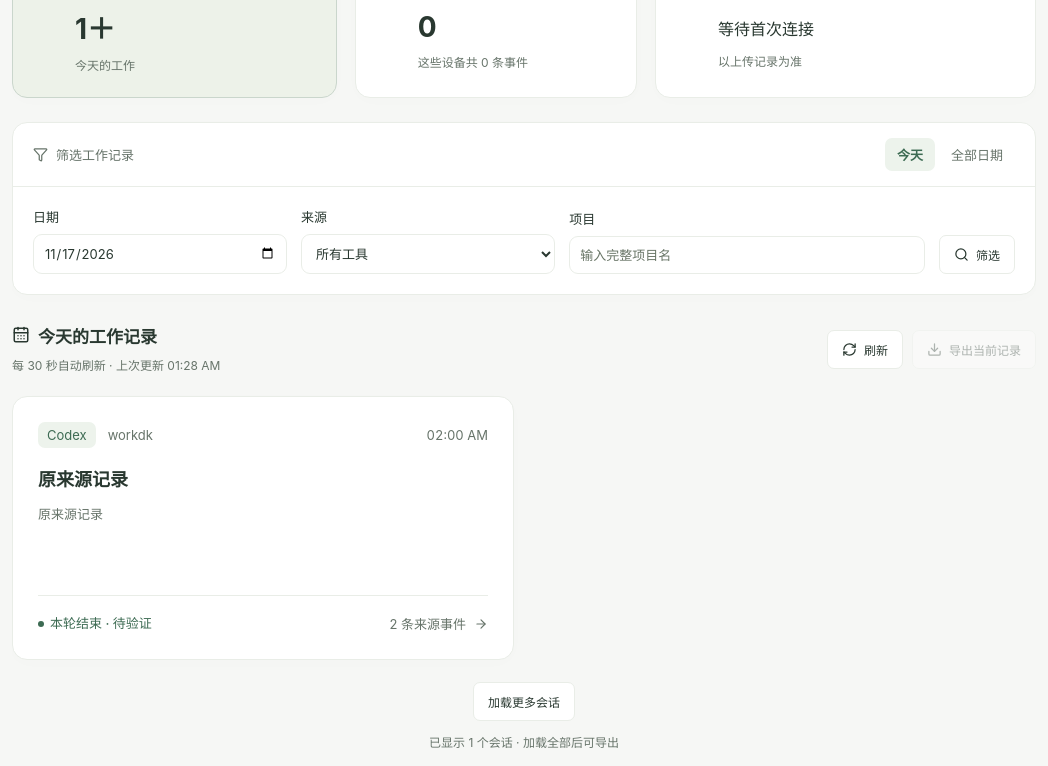
Test: 切换来源后忽略仍在返回的旧分页，不把旧记录混入新列表
The image size is (1048, 766).
(page scrolled)
Step 1. Click the button "加载更多会话" → [524, 702], box [473,682,575,721]
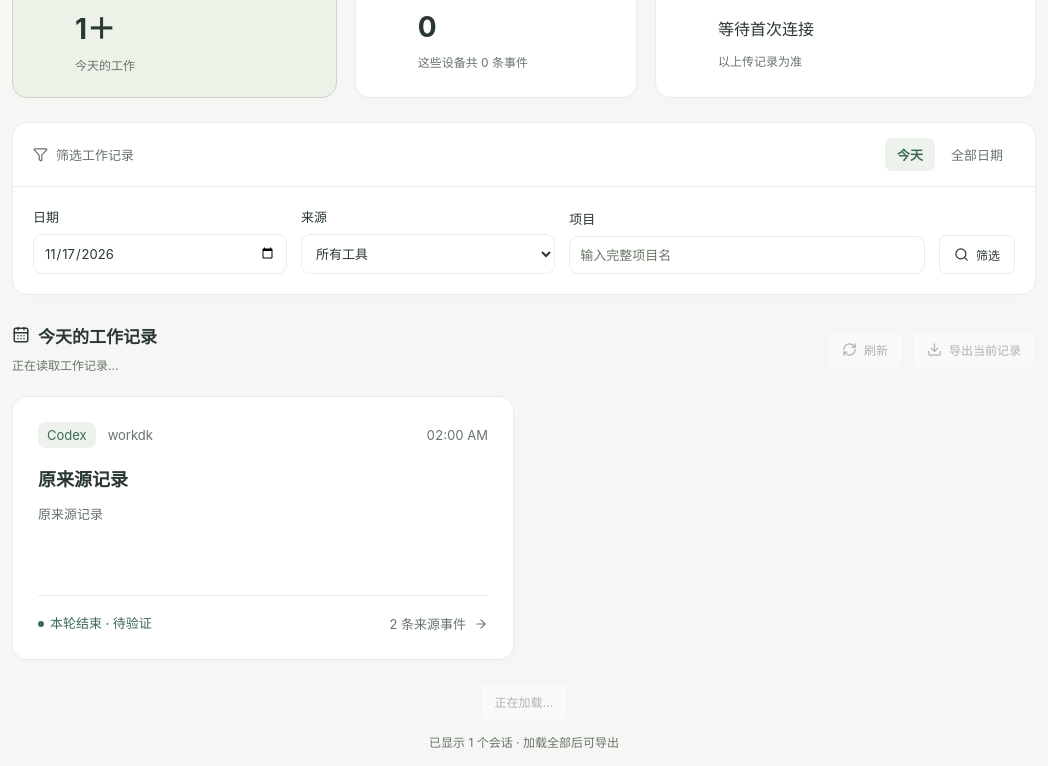
Step 2. Select "Claude Code" in the dropdown labelled "来源" → [428, 254], box [301,234,555,274]
(page scrolled)
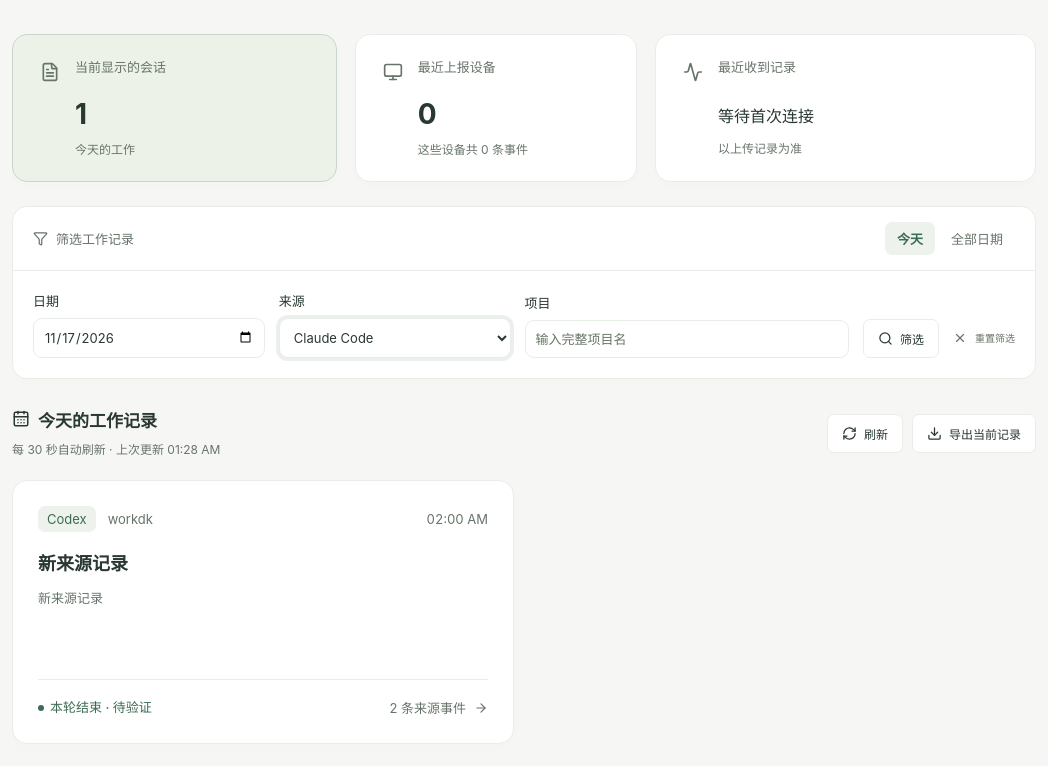
Check: the heading "新来源记录" is shown, box [38,553,128,574]
Check: the button "导出当前记录" is enabled, box [912,414,1036,453]
Check: the button "原来源记录" is gone
